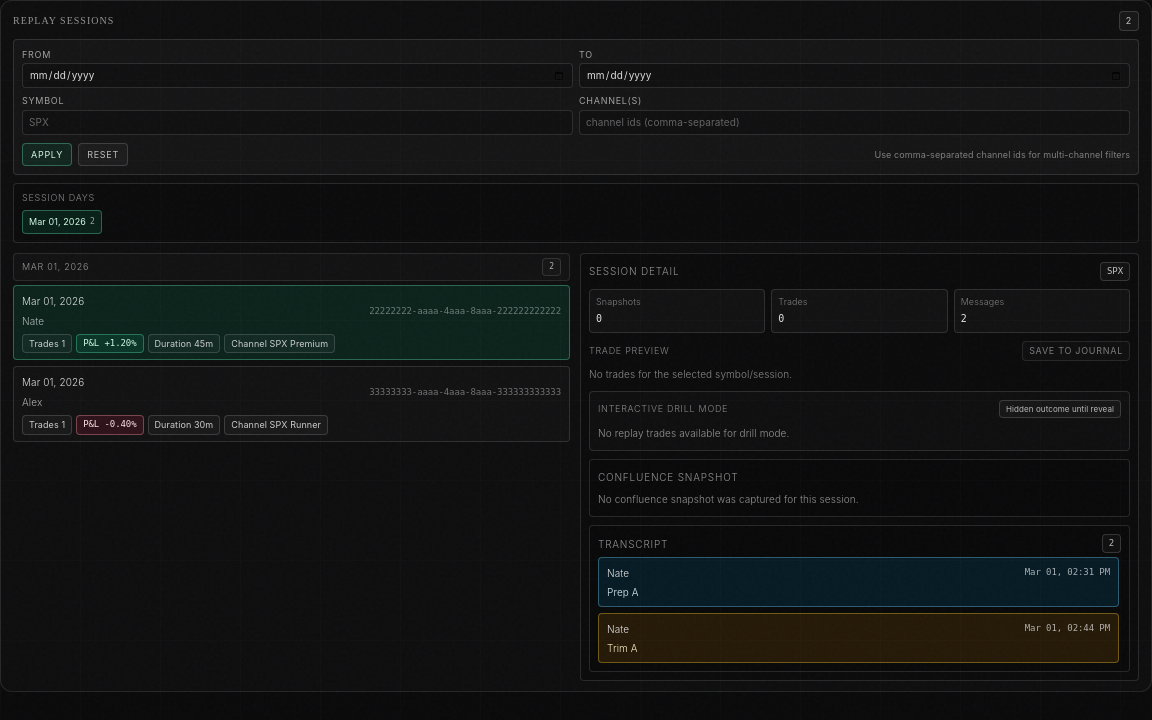
Test: spx-command-center/replay-session-browser › jumps transcript focus from lifecycle/chart marker events and ignores stale session events
Check: the element with test id "spx-replay-transcript-row-0" is shown, box [598,557,1119,607]
Click the 6th button at coordinates (53, 382), box [13,366,570,442]
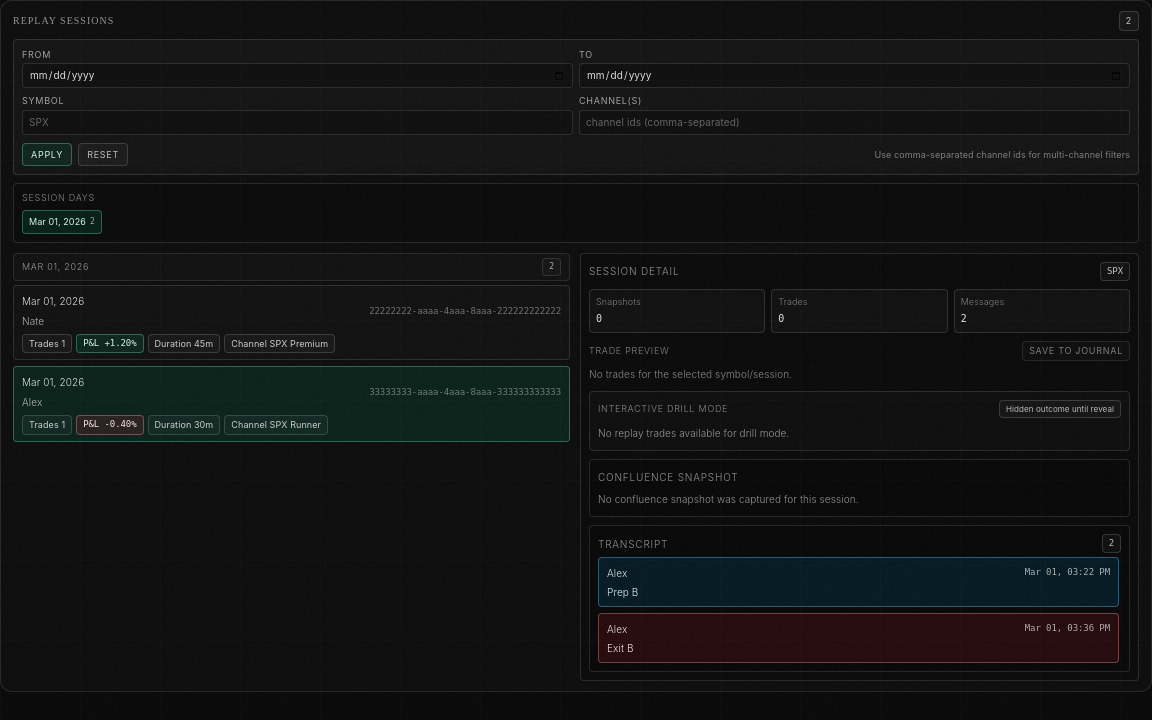
Check: the element with test id "spx-replay-transcript-row-0" shows "Prep B", box [607,586,638,598]
